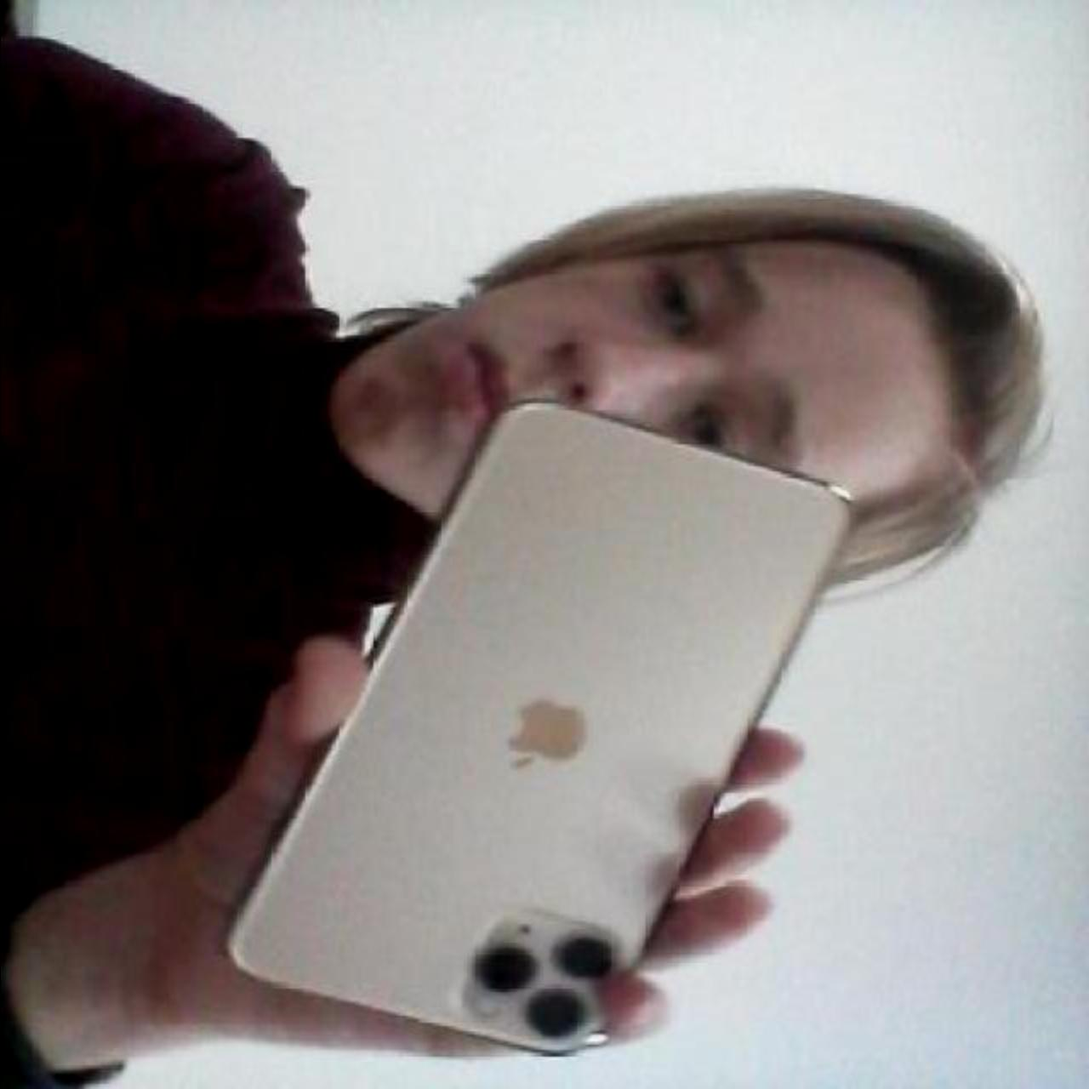phone: (211, 377, 873, 1068)
